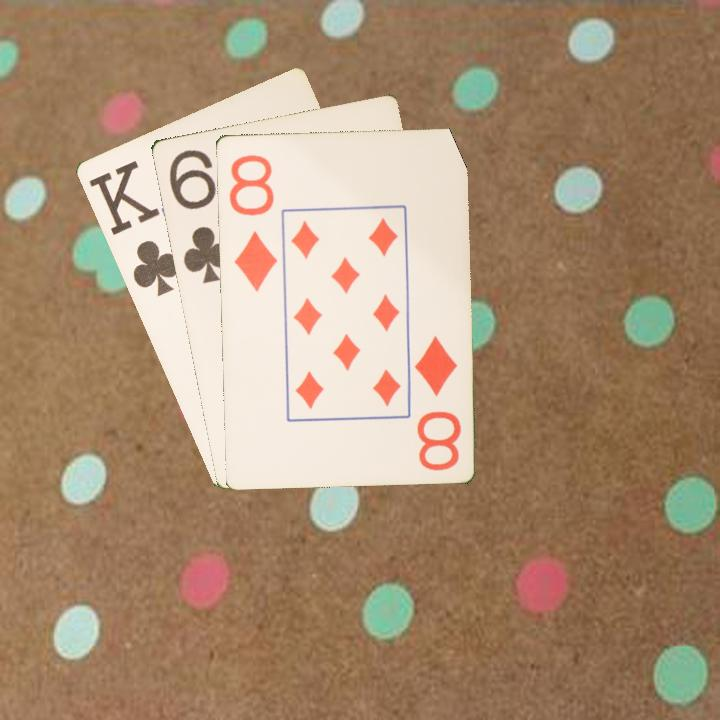6c: (165, 145, 234, 286)
8d: (225, 151, 279, 294), (410, 332, 463, 473)
Kc: (84, 156, 183, 299)
